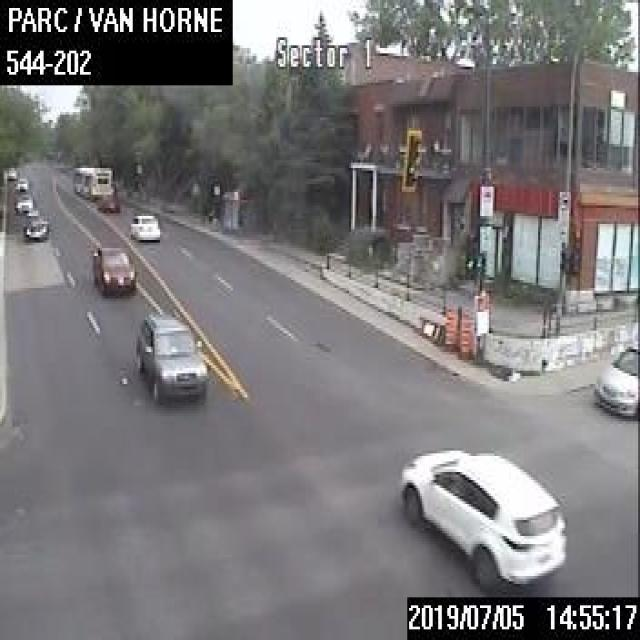bus: (72, 164, 112, 197)
construction: (457, 305, 472, 357), (443, 304, 457, 348)
vehicle: (398, 446, 566, 592), (134, 310, 206, 405), (591, 333, 638, 416), (91, 240, 135, 296), (129, 208, 160, 240), (23, 215, 47, 237), (96, 192, 119, 210), (14, 191, 33, 211), (14, 175, 28, 190)
